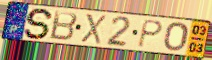2: (106, 15, 132, 48)
B: (48, 10, 79, 42)
O: (163, 21, 190, 52)
P: (136, 18, 165, 49)
S: (23, 7, 56, 41)
X: (79, 12, 107, 46)
